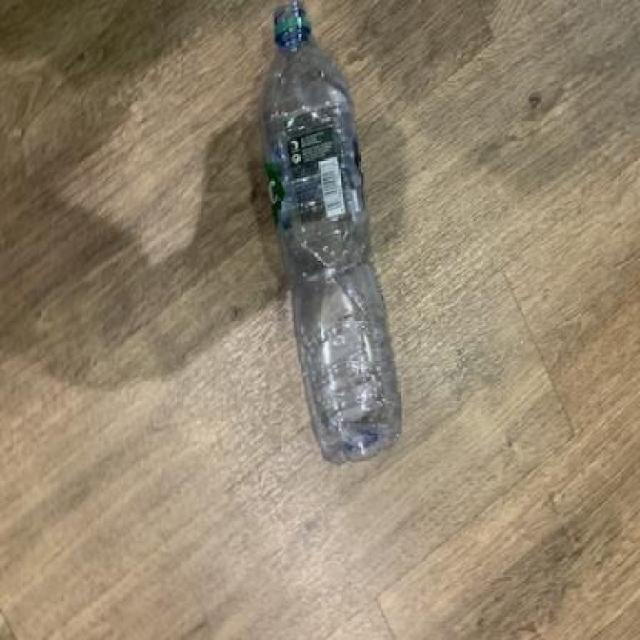trash: (253, 4, 402, 470)
